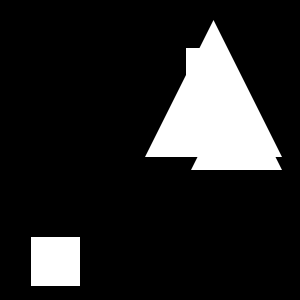circle: (31, 237, 80, 286), (186, 48, 221, 83)
triangle: (145, 20, 282, 157), (191, 79, 282, 170), (178, 97, 229, 148)
